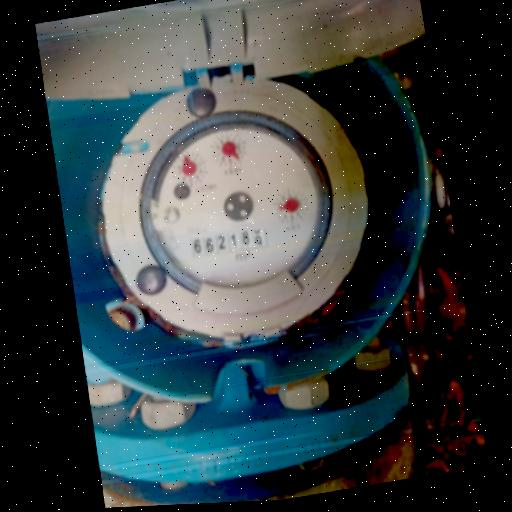1: (228, 232, 241, 250)
2: (217, 235, 229, 253)
6: (204, 235, 218, 255), (192, 238, 206, 256)
8: (240, 230, 255, 249), (253, 228, 266, 247)
border_water_meter_number: (191, 226, 269, 258)
